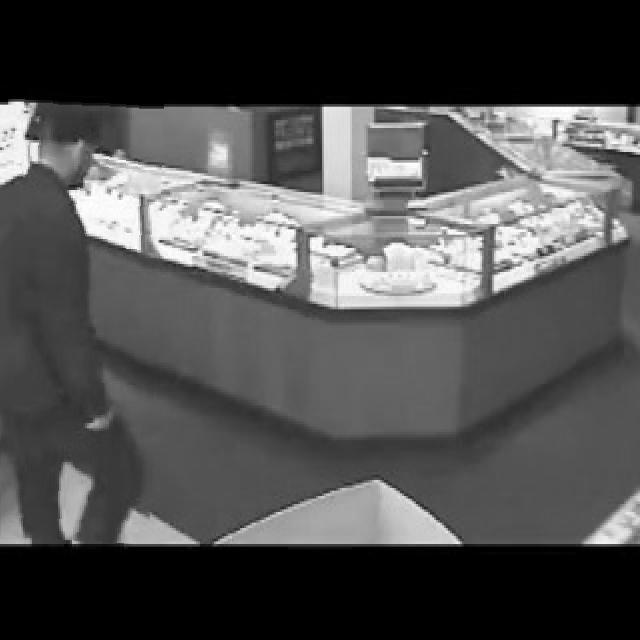Normal: (0, 96, 160, 543)
